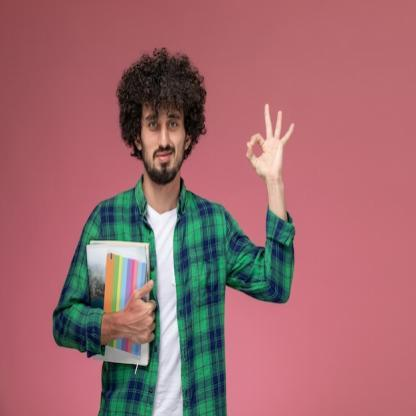ok: (242, 100, 300, 186)
